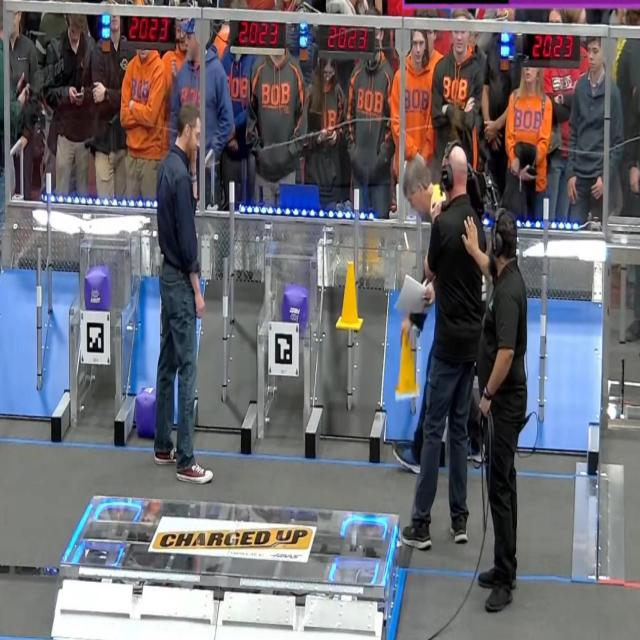frc_cone: (335, 260, 364, 331), (393, 324, 419, 400)
frc_cube: (135, 387, 157, 440), (283, 287, 310, 328), (85, 268, 111, 310)
